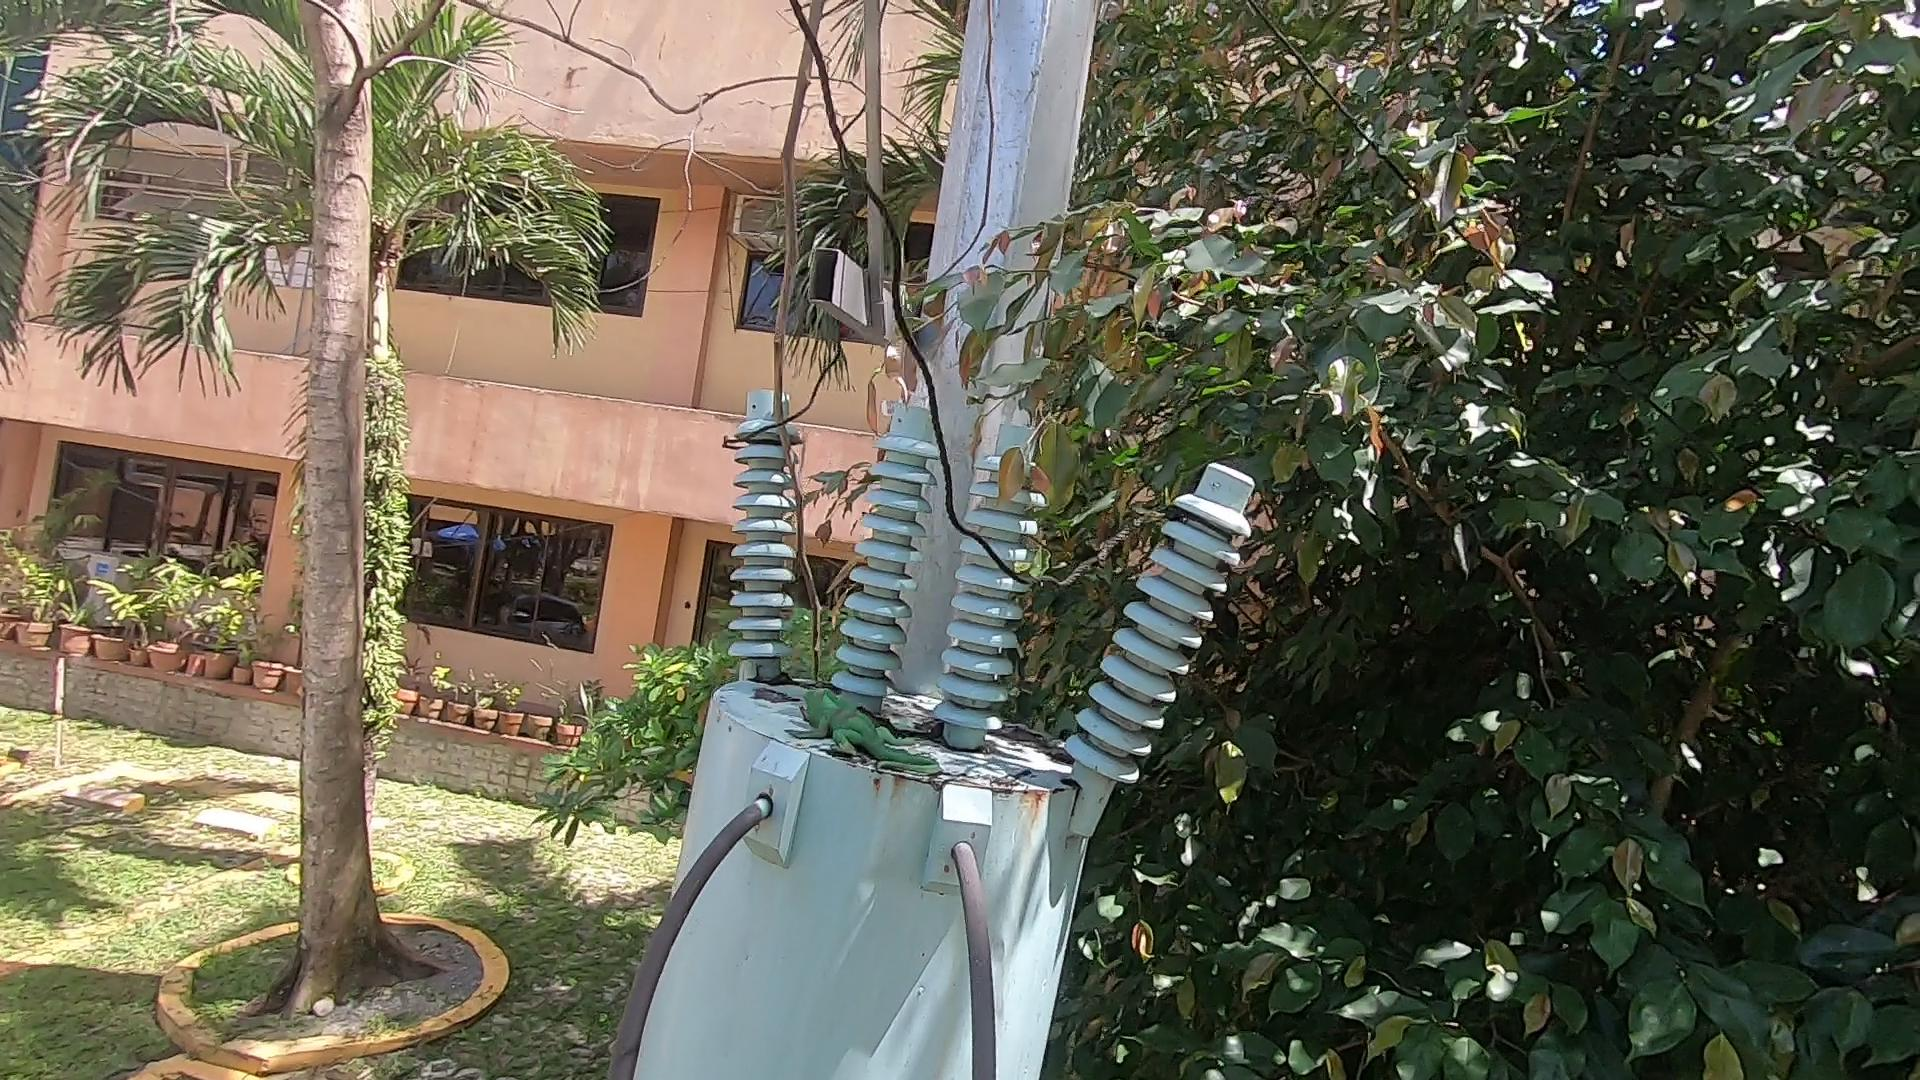branch with leaves: (967, 328, 1167, 545)
leaf: (994, 717, 1076, 762), (870, 702, 947, 741), (745, 665, 796, 687)
tree branch: (758, 3, 858, 675)
